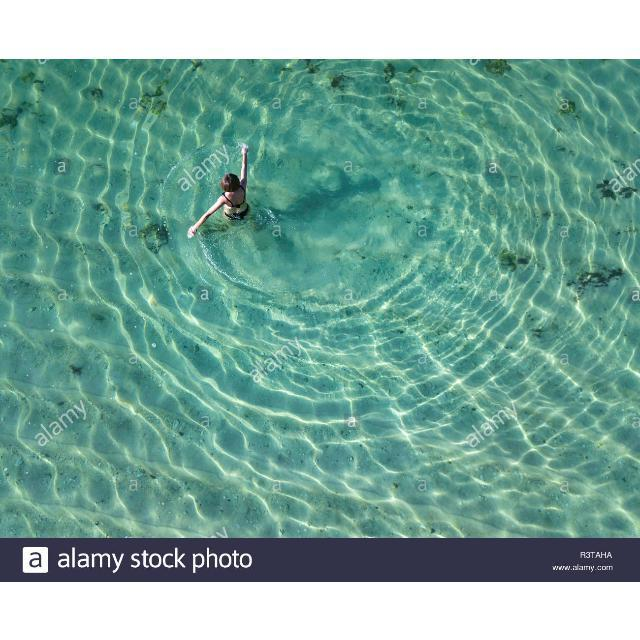human: (186, 141, 252, 239)
